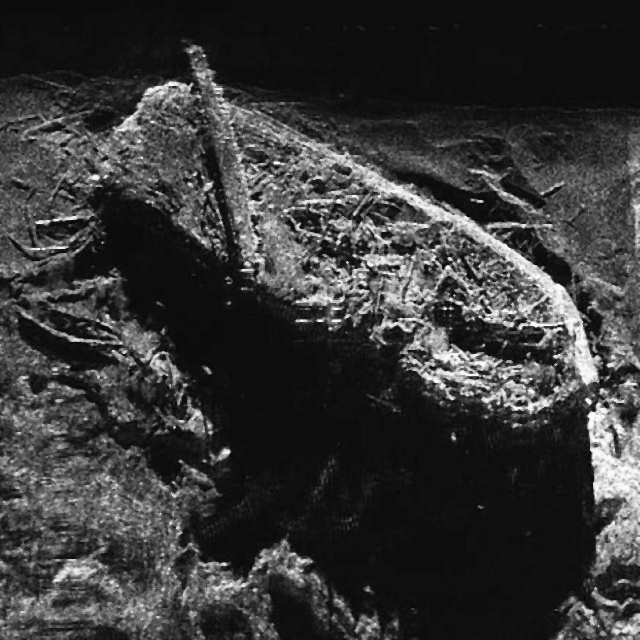Ship: (69, 28, 606, 470)
